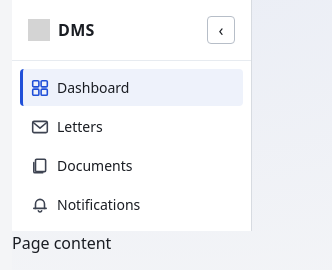
Test: Sidebar › toggles collapsed state and flips aria-expanded on the collapse control
What coordinates should you click on to do the following:
click the button named "collapse navigation"
I would click on:
 (221, 30)
Its box is [207,16,235,44].
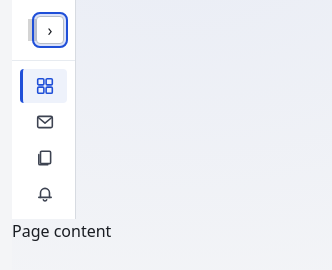
Expected: the button named "expand navigation" is collapsed, [36,16,64,44]
